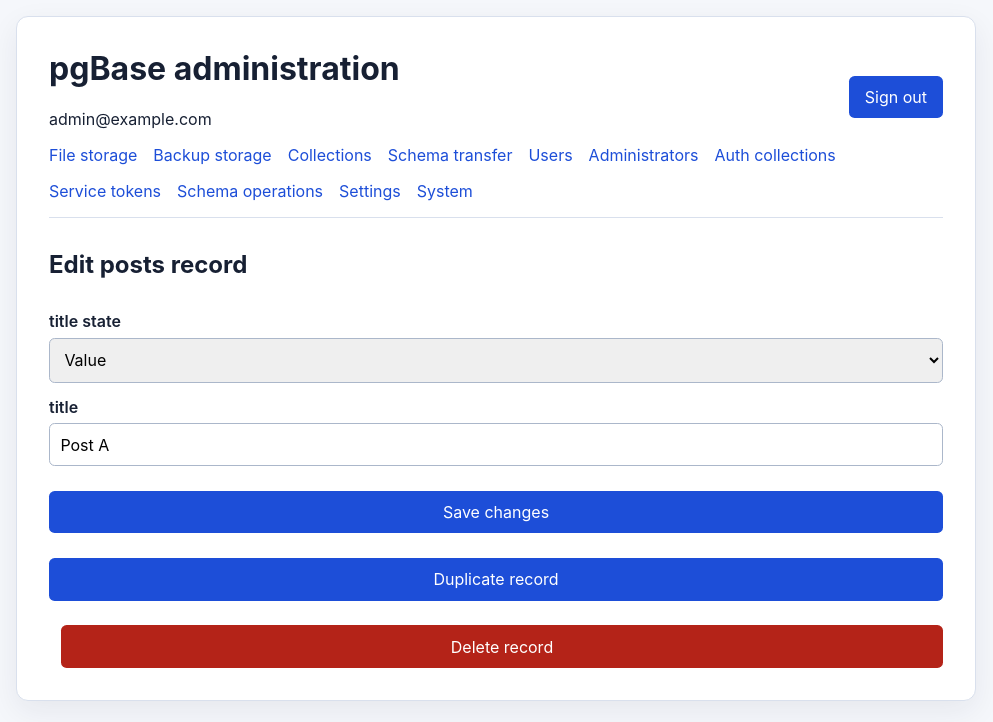
Test: administration shell › never asks about a draft the administrator deleted the record for
Replace the text in the field labelled "title" with "unsaved edit" at (496,445), box [49,423,943,466]
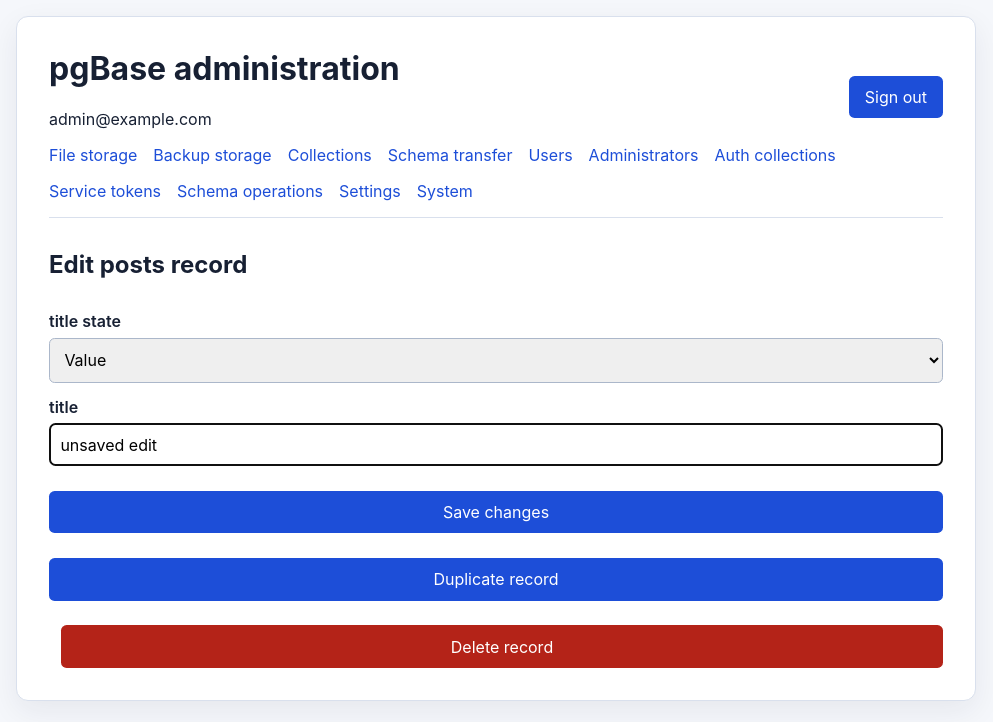
Click the button "Delete record" at (502,646), box [61,625,943,668]
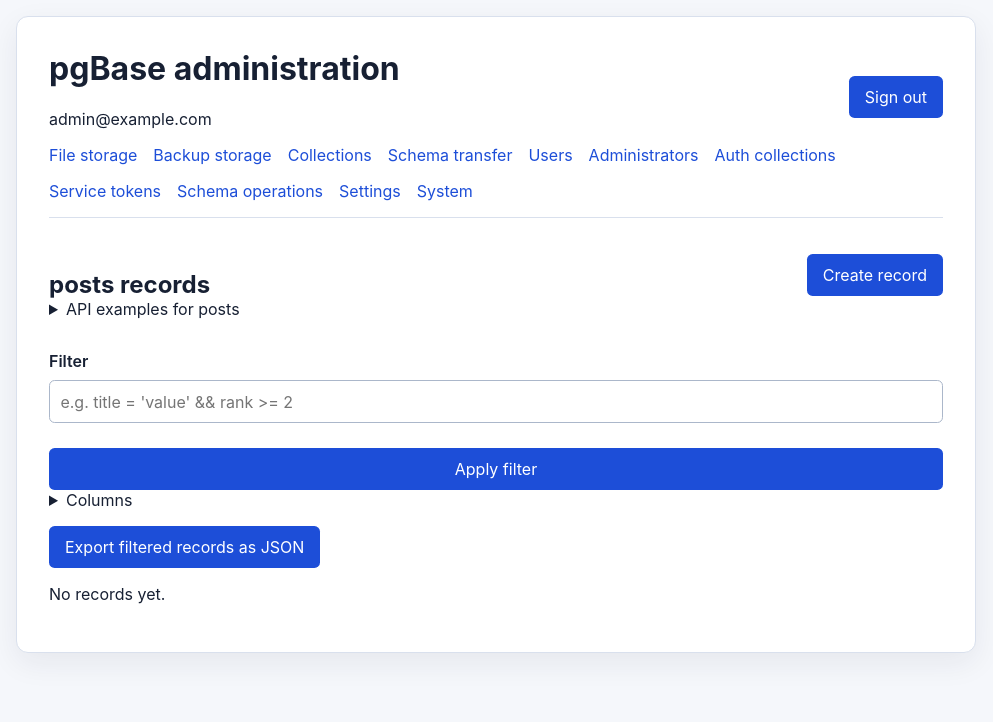
Check: the heading "posts records" is shown, box [49,270,210,299]
